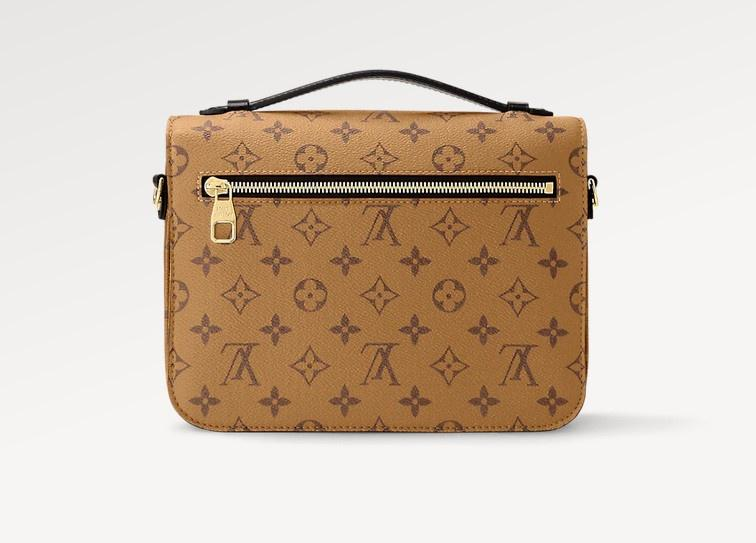LOUIS-VUITTON: (167, 117, 585, 426)
